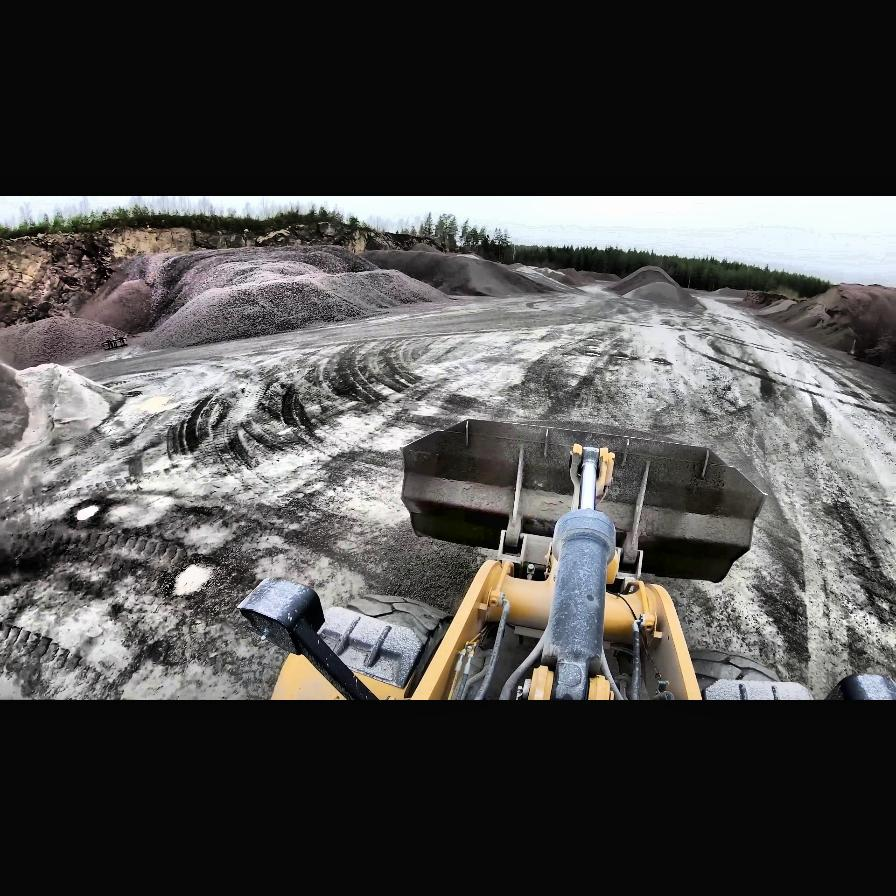anchor: (571, 443, 617, 503)
pile of gravel: (76, 244, 438, 352), (746, 282, 896, 379), (1, 359, 129, 469), (0, 314, 130, 368), (390, 250, 540, 296), (602, 266, 700, 306), (756, 295, 824, 329), (714, 287, 754, 297)
